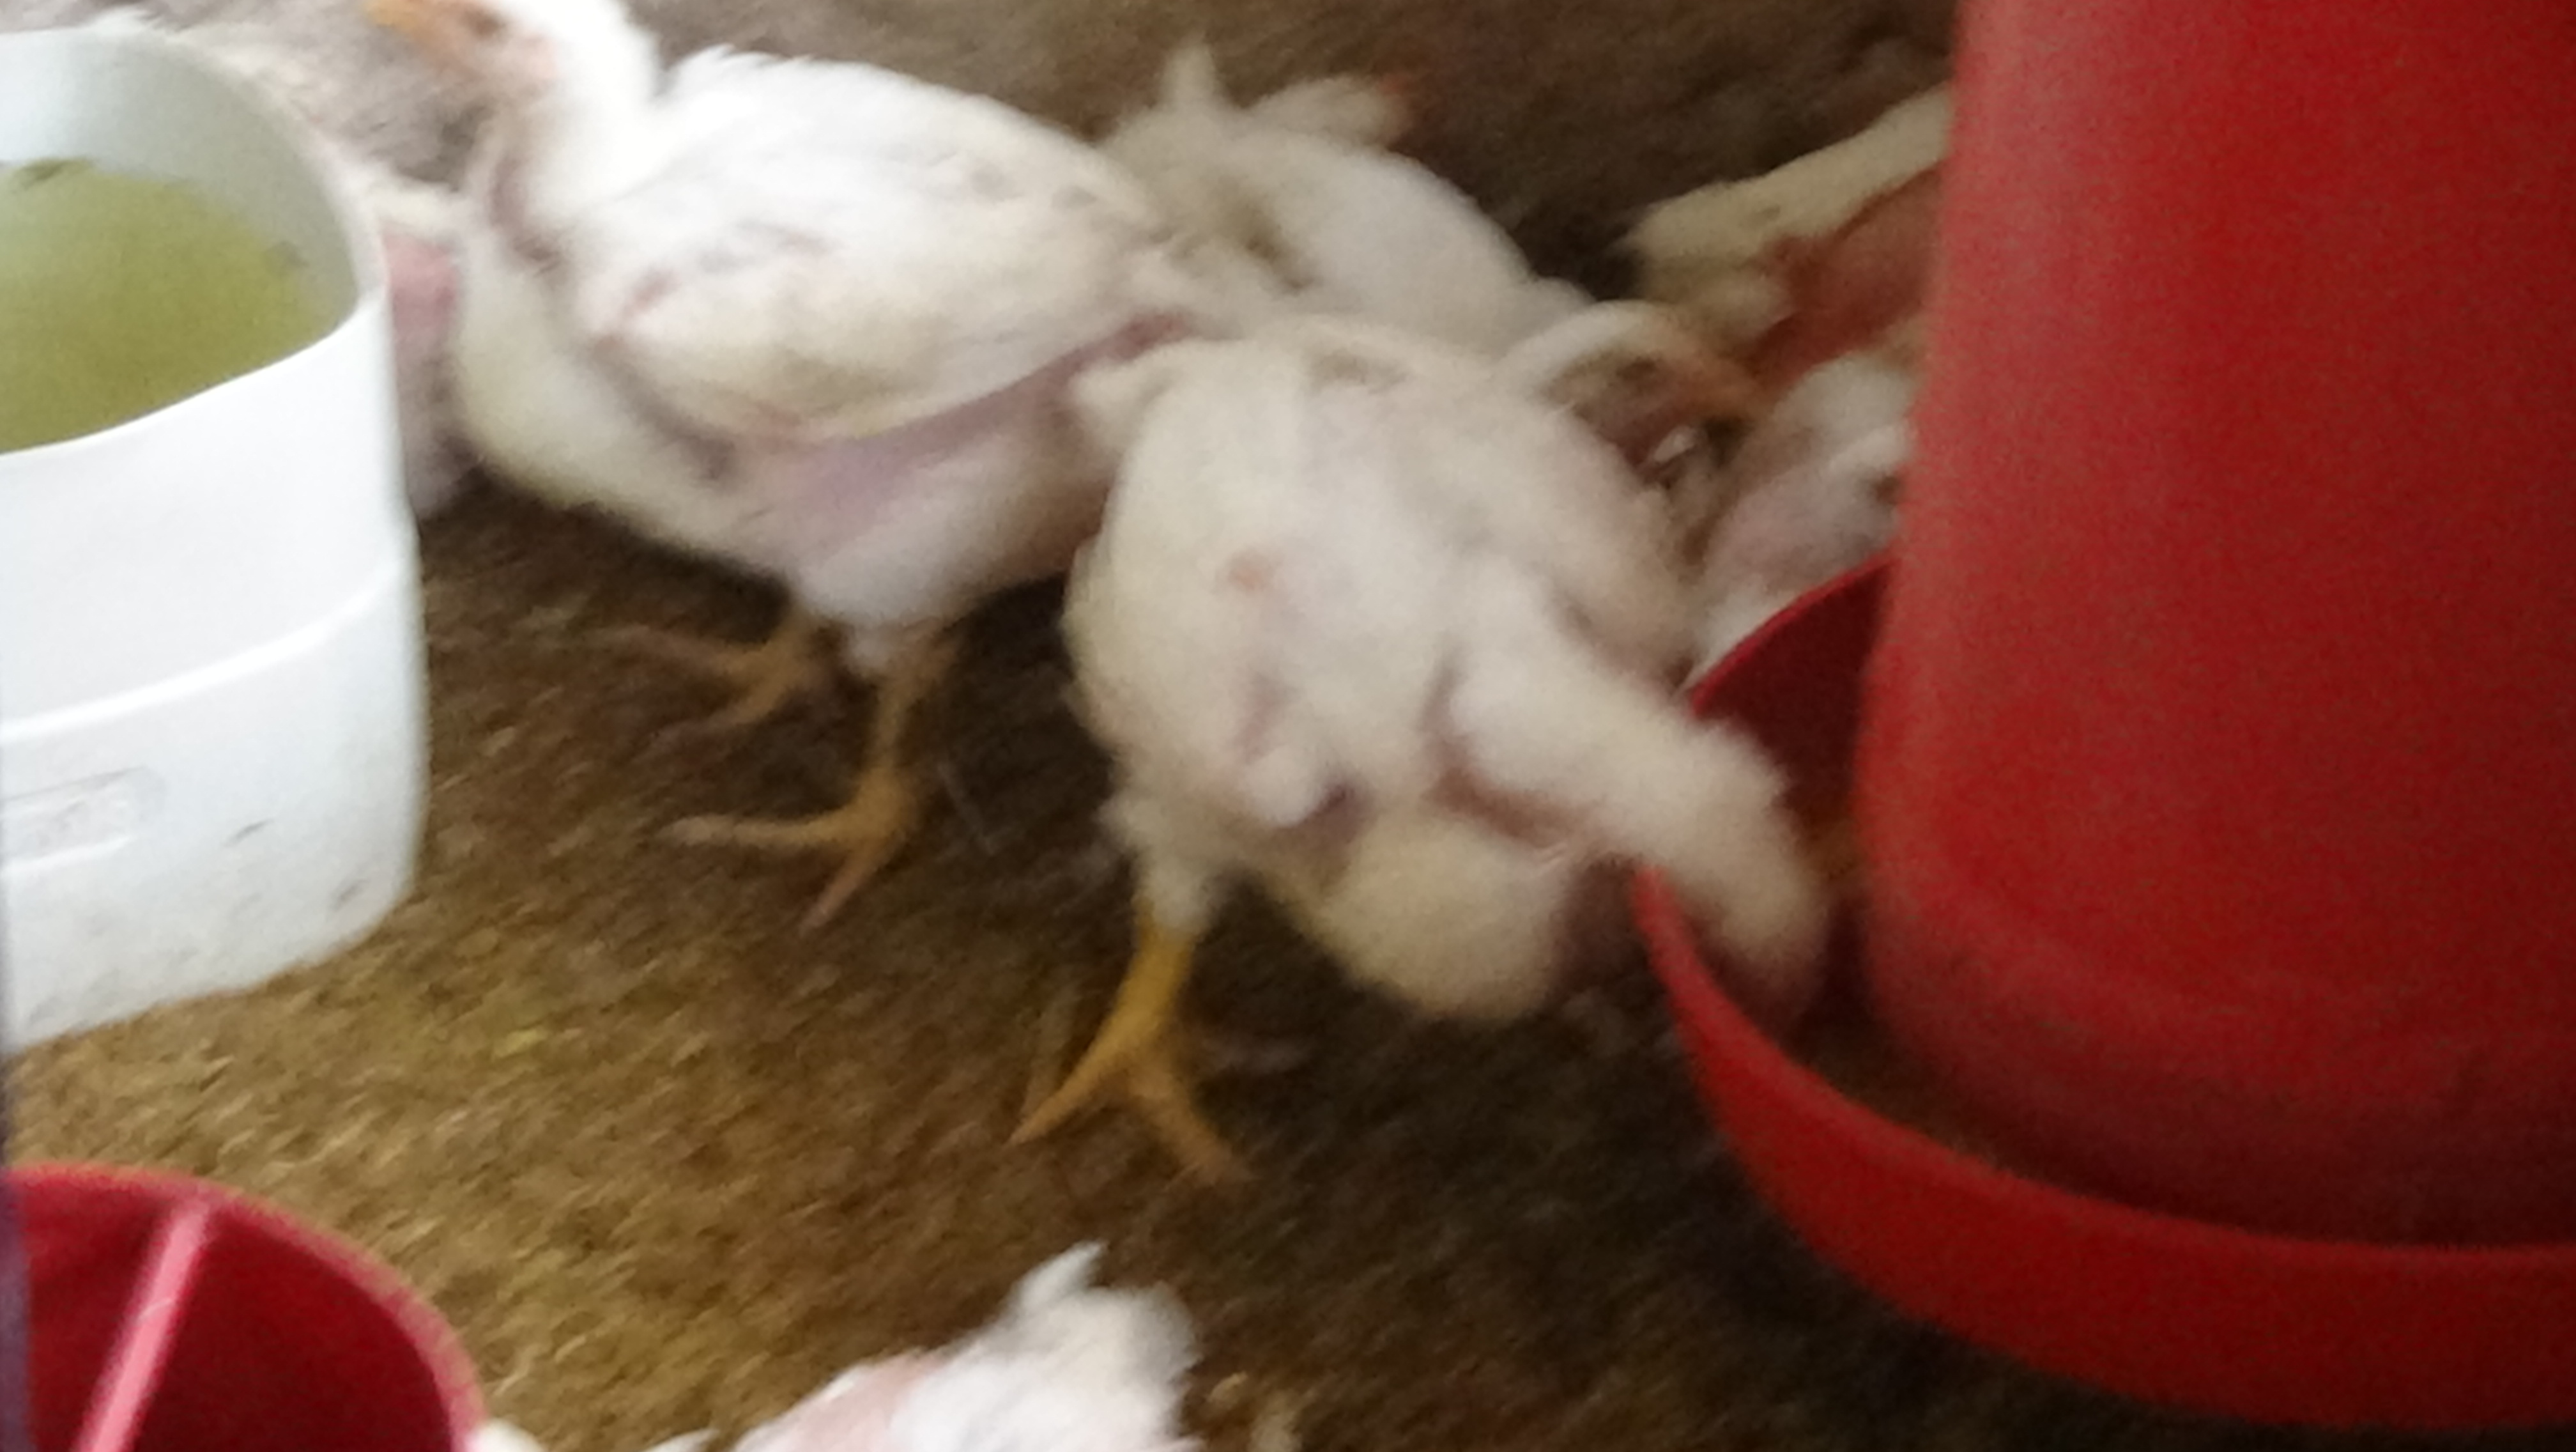Pollos: (375, 0, 1212, 924), (1046, 303, 1856, 1225)
